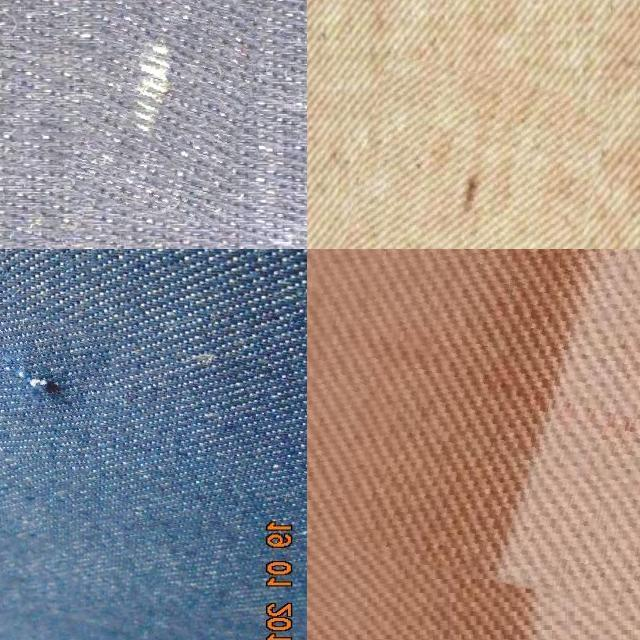Thread_other: (307, 249, 640, 634), (311, 62, 589, 249), (75, 0, 257, 222), (0, 313, 114, 469)
